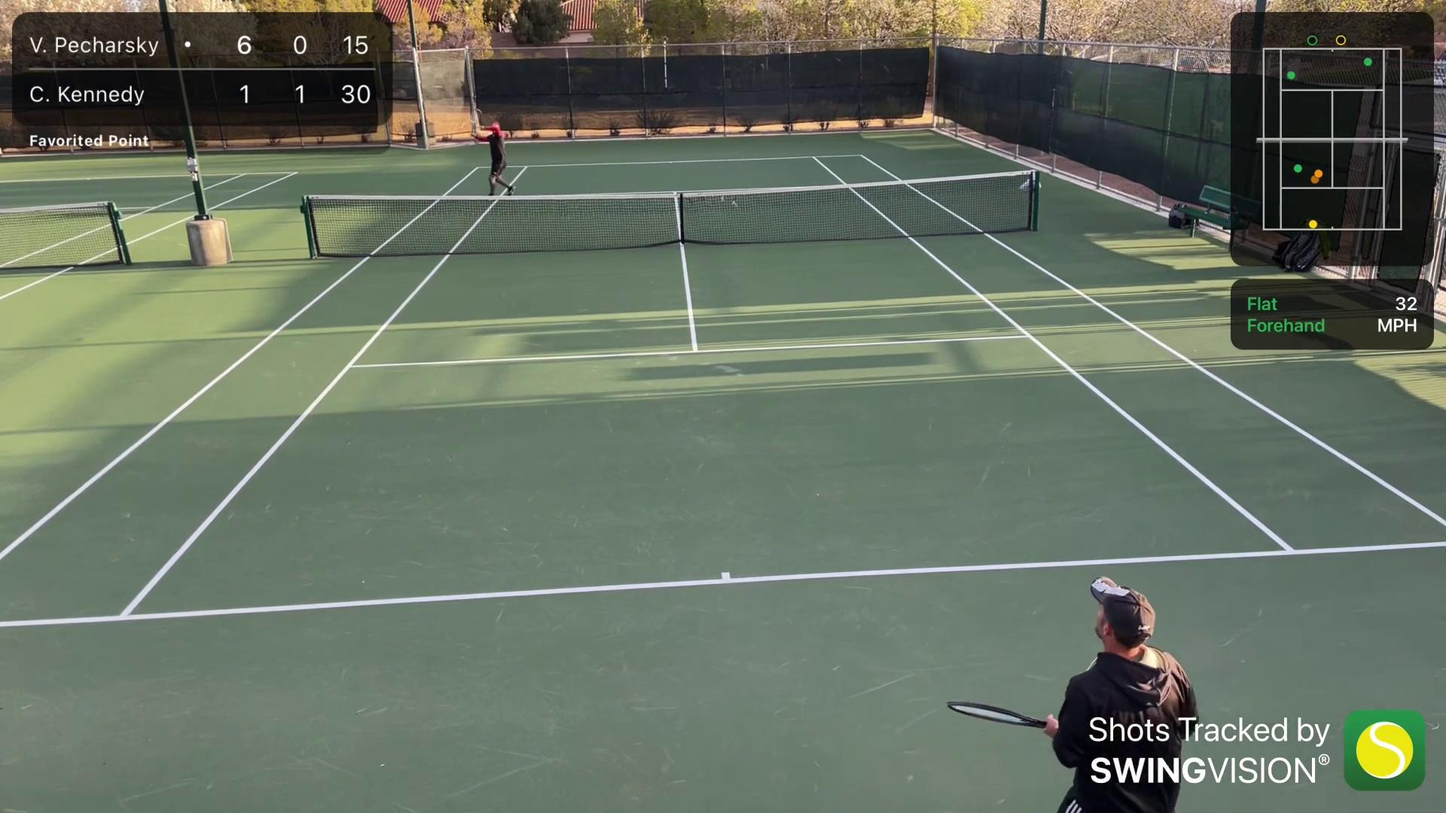ball: (463, 6, 470, 11)
